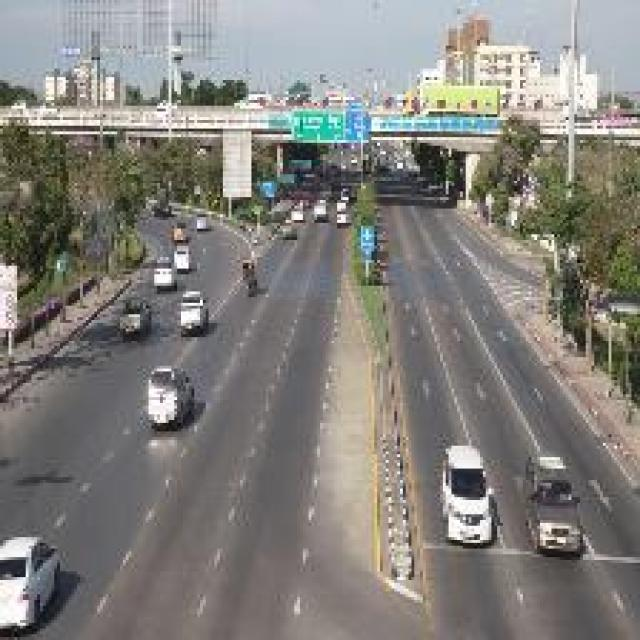other: (122, 340, 195, 446)
